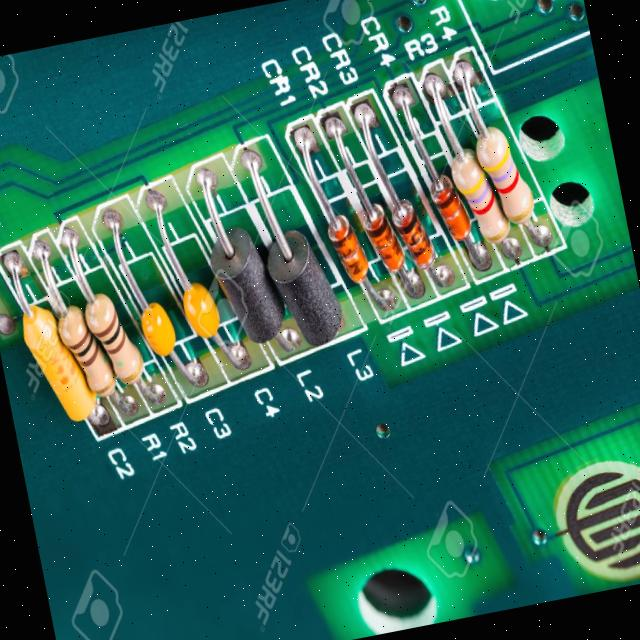resistor: (448, 140, 521, 258), (481, 122, 544, 230), (88, 284, 151, 392), (58, 301, 121, 402)
